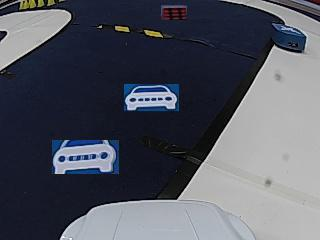prop: (272, 24, 306, 53)
